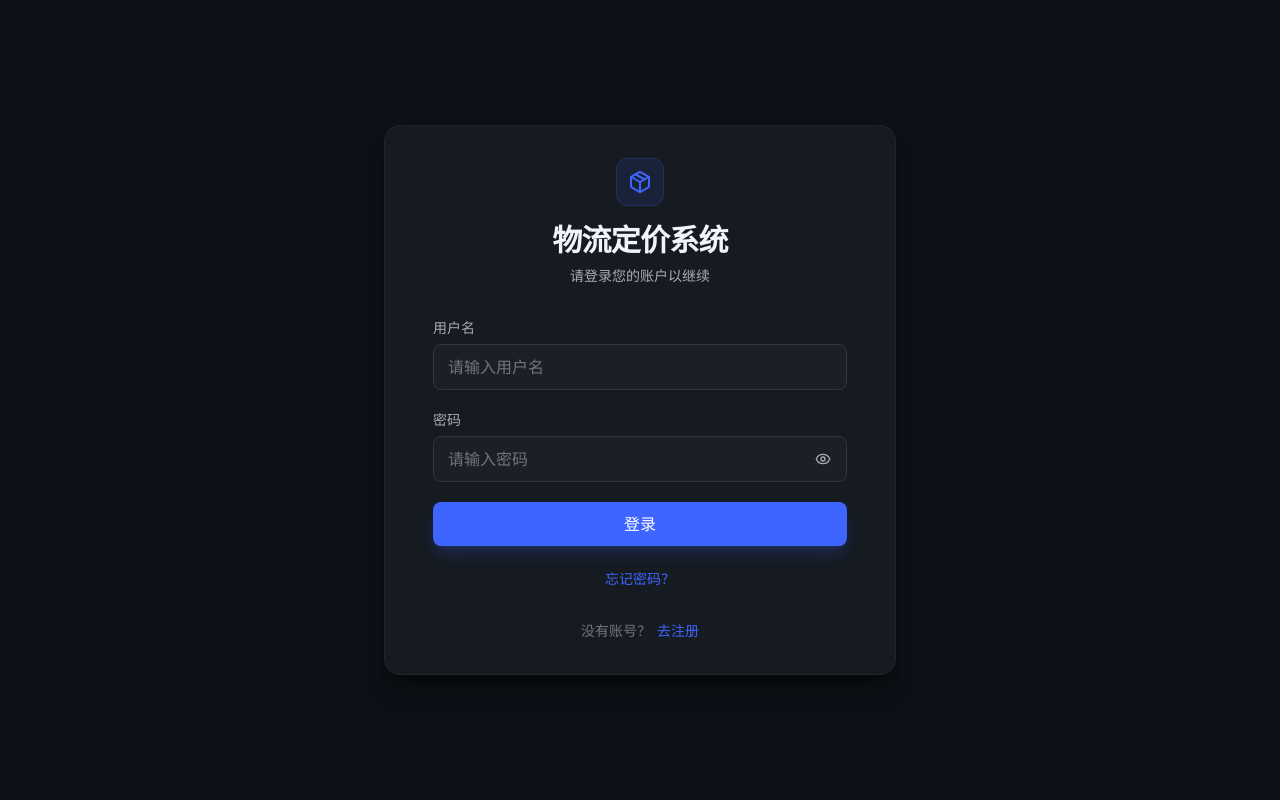
Scenario: LoginPage › shows validation errors for empty fields
What coordinates should you click on to do the following:
click the button "登录"
I would click on:
 (640, 524)
Its box is left=433, top=502, right=847, bottom=546.
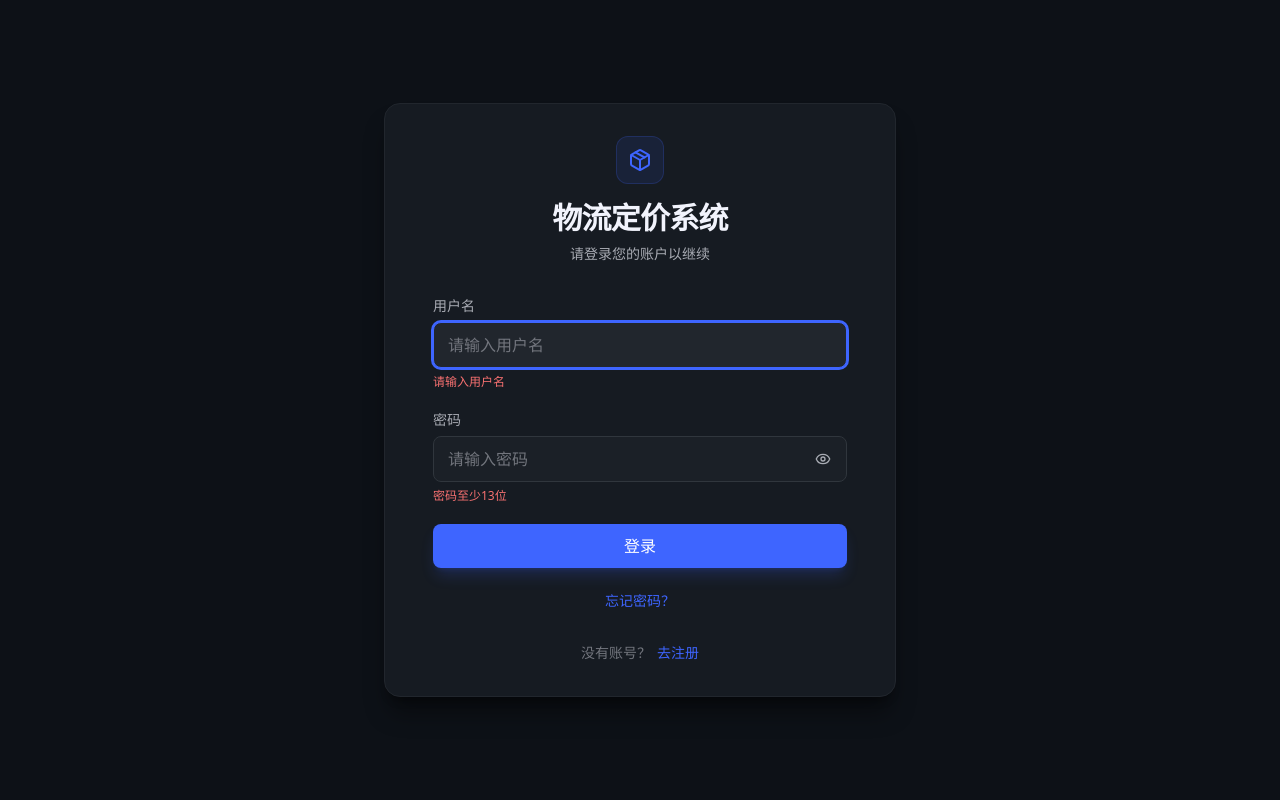
Now the text "请输入用户名" is shown, box left=433, top=373, right=505, bottom=390
Now the text "密码至少13位" is shown, box left=433, top=487, right=507, bottom=504
